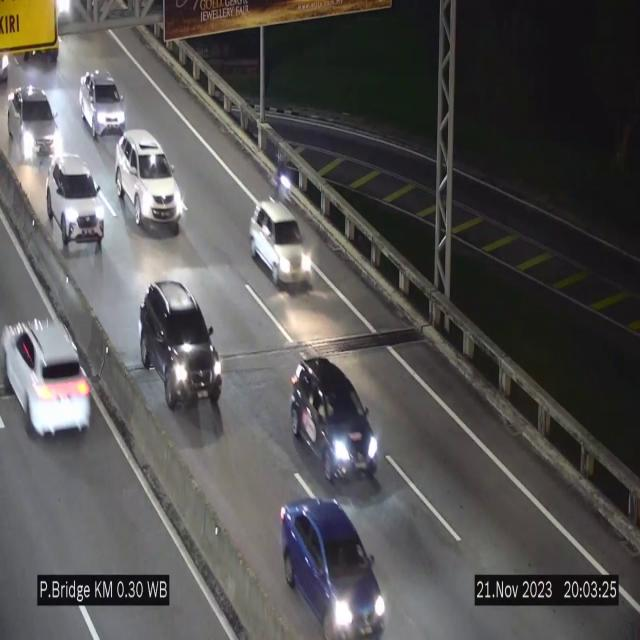Car: (0, 286, 95, 451), (281, 498, 387, 637), (131, 273, 224, 409), (289, 360, 378, 479), (116, 130, 182, 232), (46, 154, 105, 249), (250, 200, 312, 288), (8, 85, 58, 169), (80, 70, 126, 144)
Motorcycle: (273, 163, 291, 199)
